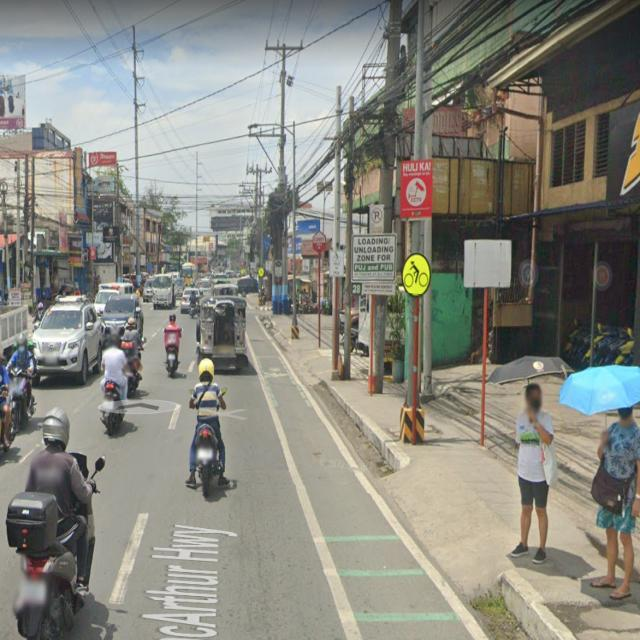bike lane: (399, 249, 435, 307)
